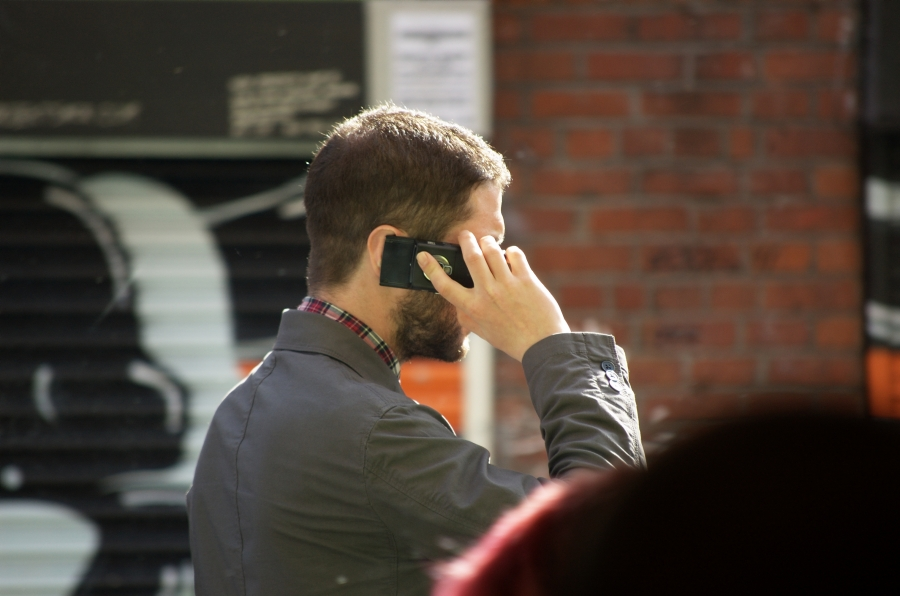phone: (374, 228, 504, 303)
